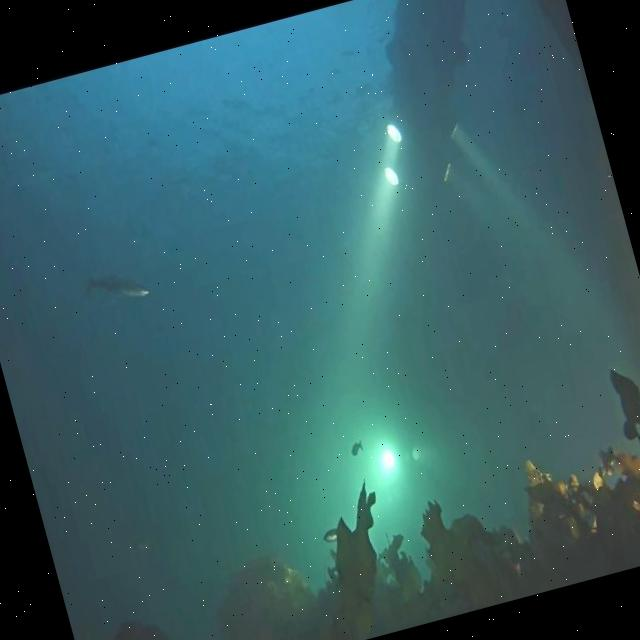fish: (84, 266, 150, 310), (320, 524, 344, 550), (347, 438, 366, 458)
